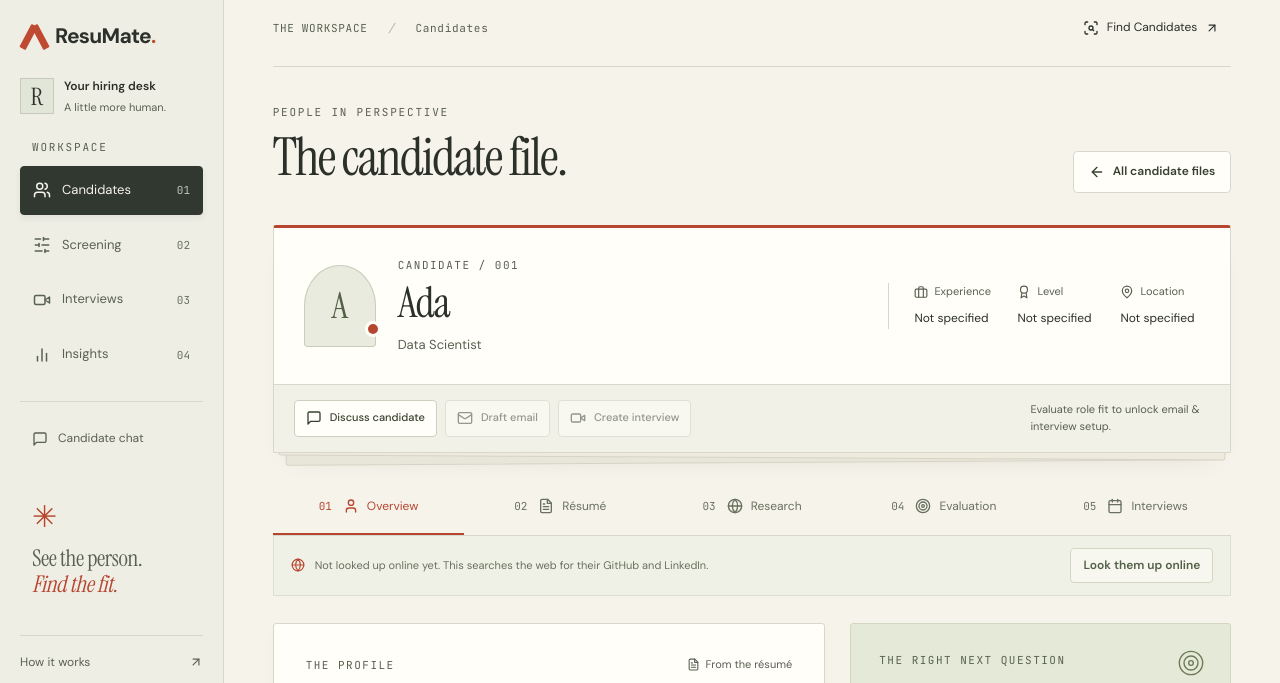
Test: the candidate file › keeps the extracted text available when no original file was stored
The width and height of the screenshot is (1280, 683).
What coordinates should you click on to do the following:
click the button "02 Résumé"
I would click on:
 (560, 507)
Its box is [464,480,656,535].
(page scrolled)
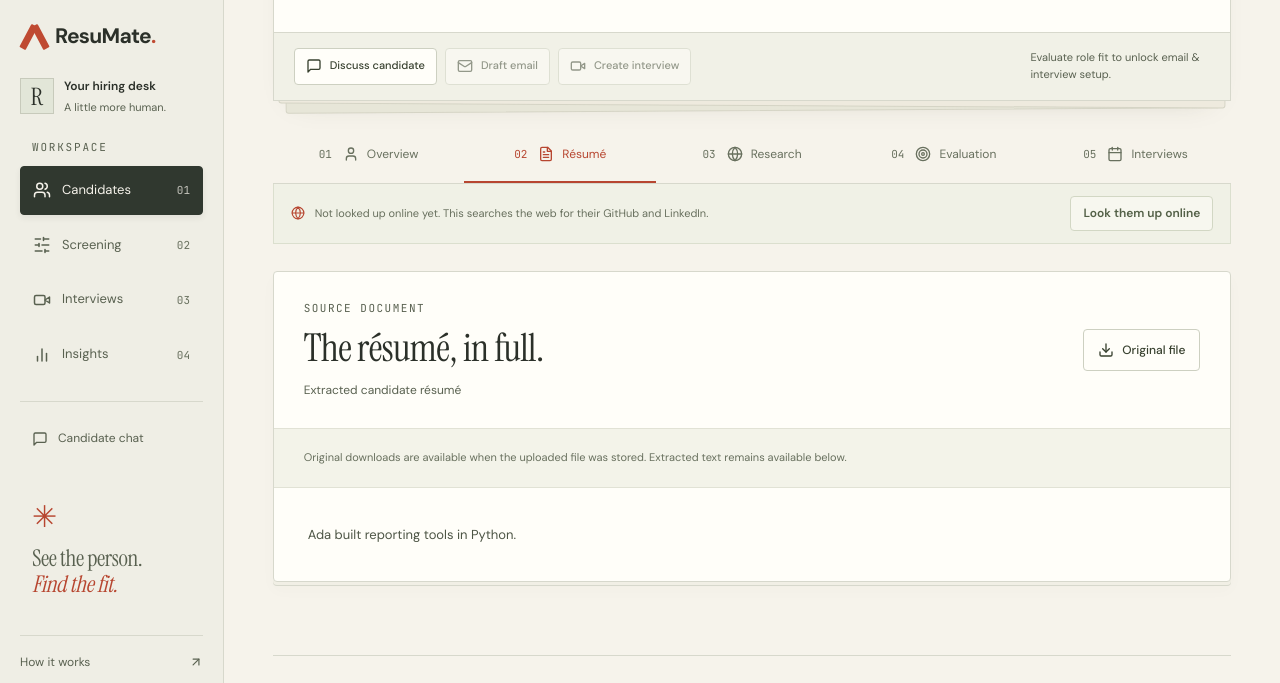
Result: the text "Ada built reporting tools in Python." is shown at [308,526,516,543]
What coordinates should you click on to do the following:
click the button "Original file"
I would click on:
 (1142, 350)
Its box is [1083,329,1200,371].
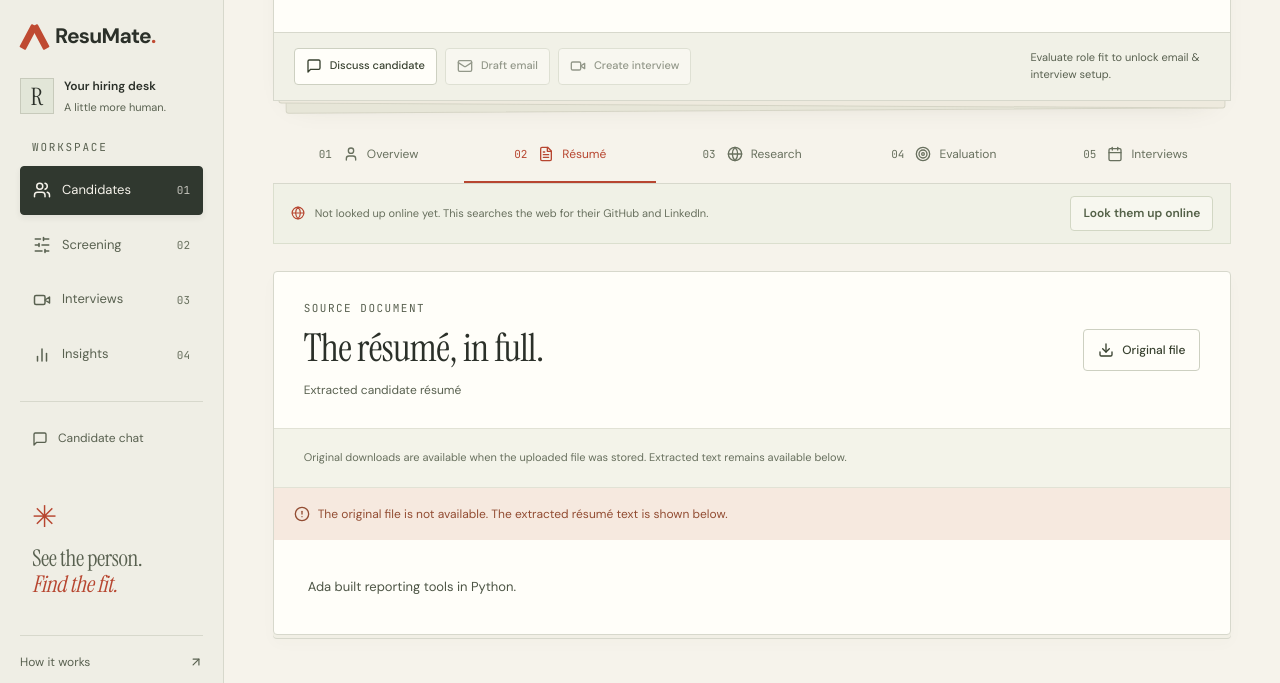
Result: the text "Ada built reporting tools in Python." is shown at [308,578,516,595]
Result: the text "The original file is not available. The extracted résumé text is shown below." is shown at [274,488,1230,540]
